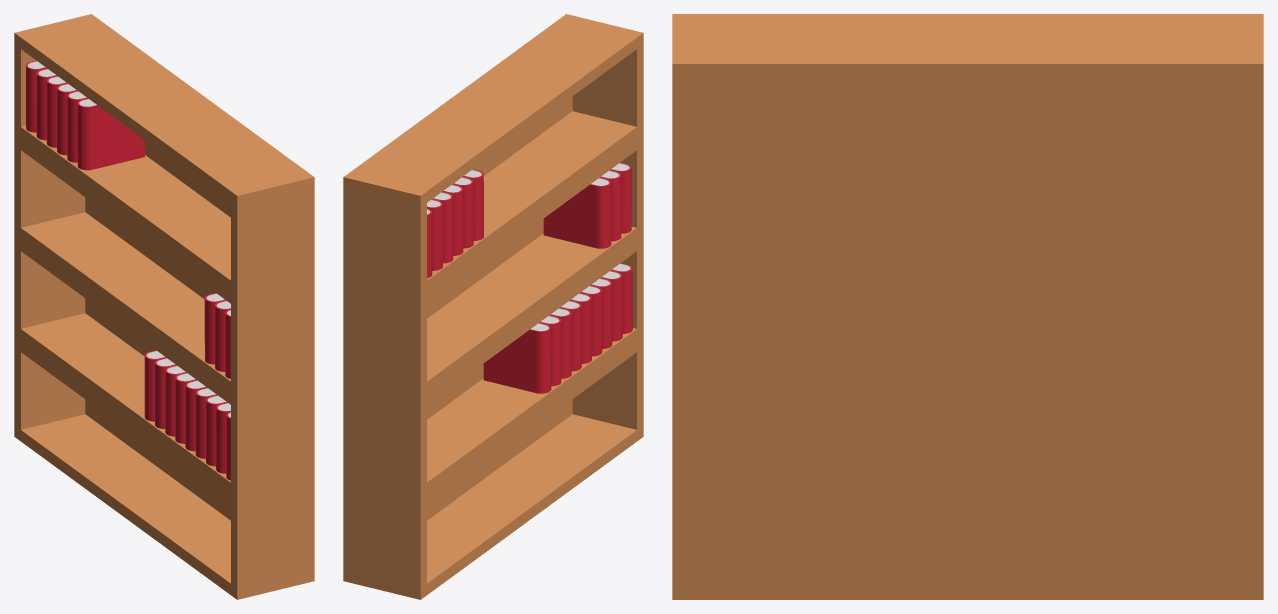
Rendered from libreroRojo.glb.
3 renders of one model, left to right at view 1: azimuth 30°, elevation 25°; view 2: azimuth 150°, elevation 25°; view 3: azimuth 270°, elevation 25°, orthographic. The views are drawn at different scales.
Visible parts, largest first — view 1: Librero; view 2: Librero; view 3: Librero.
Boxes of the visible parts, bbox=[...] form: Librero: bbox=[14, 14, 314, 599]; Librero: bbox=[343, 14, 643, 599]; Librero: bbox=[672, 14, 1263, 599].
Bounding box in the file's own units: 0.67 × 3.35 × 3.35.
